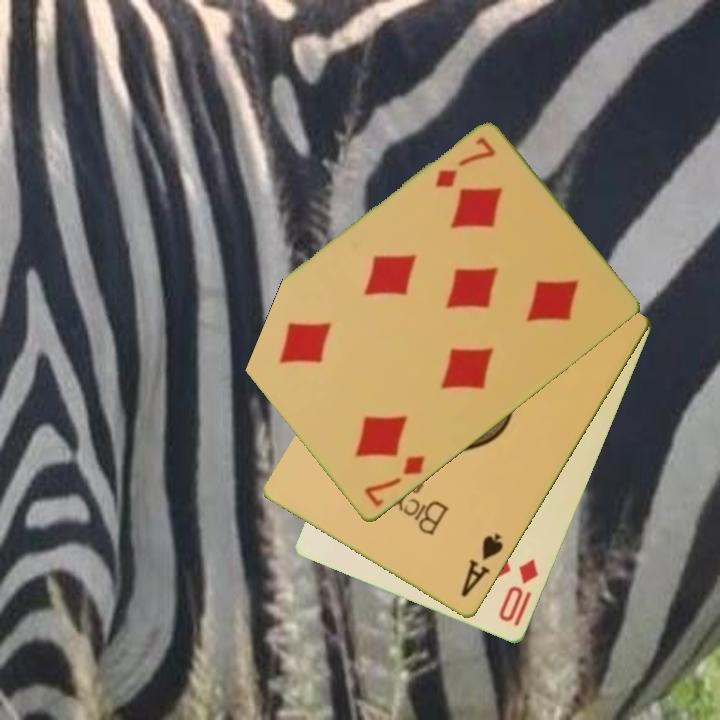10d: (495, 555, 542, 626)
7d: (360, 452, 428, 510), (431, 134, 499, 192)
As: (457, 530, 507, 601)
